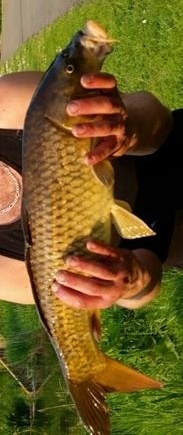Cyprinus carpio: (20, 20, 163, 435)
